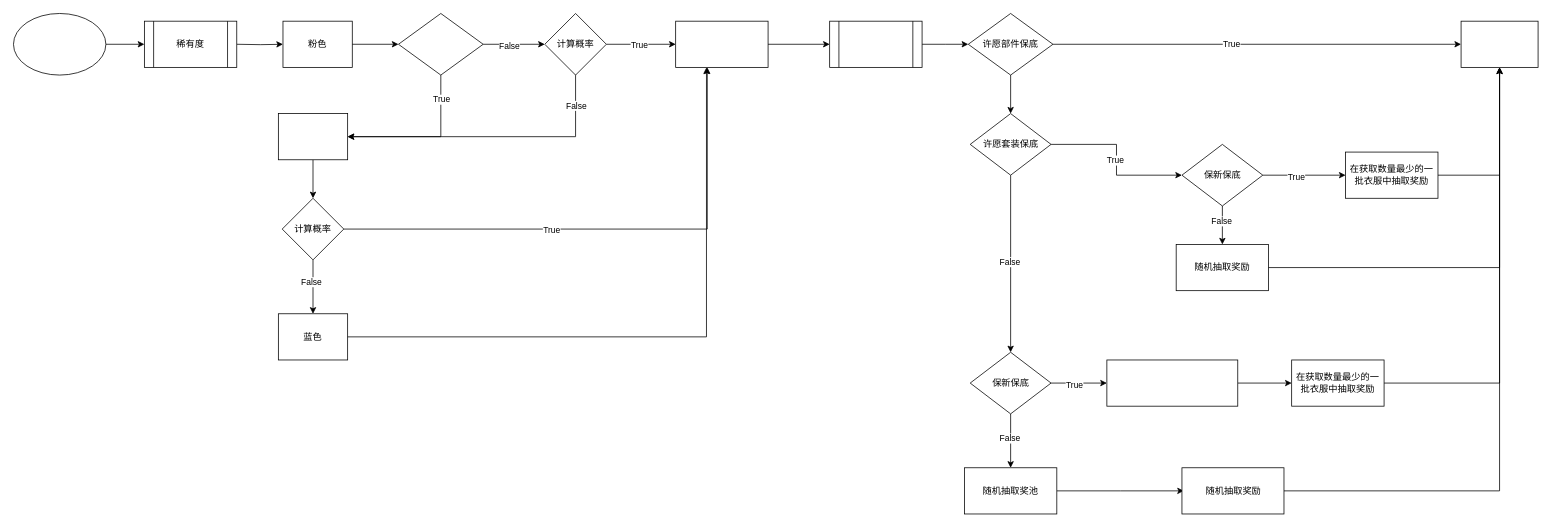
This 1552x527 diagram has some shape labels left out. The shapes that lost their labels are listed below. From the top down, each one's box as (x1, y1, x2, y2) in pixels, then its label:
(13, 13, 106, 75): Draw
(398, 13, 483, 75): 连续做多保底
(675, 20, 768, 67): 确定抽卡规则
(829, 20, 922, 67): 奖励
(1460, 20, 1538, 67): 发奖励
(278, 113, 348, 160): 紫色
(1106, 359, 1238, 406): 在稀有度且获取衣服次数最少的一批奖池中抽取奖池
